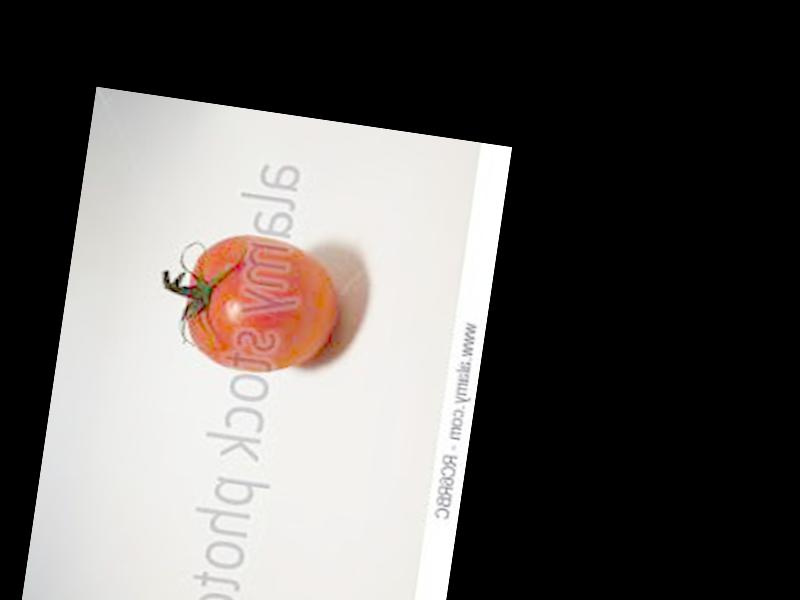Tomato: (175, 227, 344, 383)
